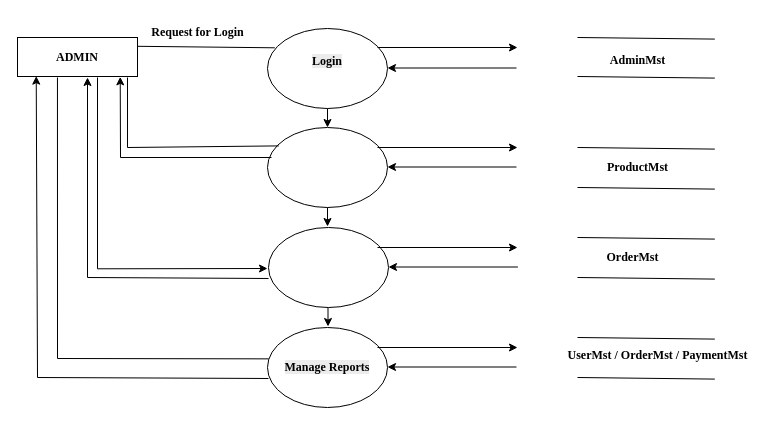
This 770x425 diagram has some shape labels left out. Here are the shapes that lost their labels. From the top down, the centre of each, then its label:
At pixel 327 167: "Manage Product".
At pixel 328 267: "Manage Order".
